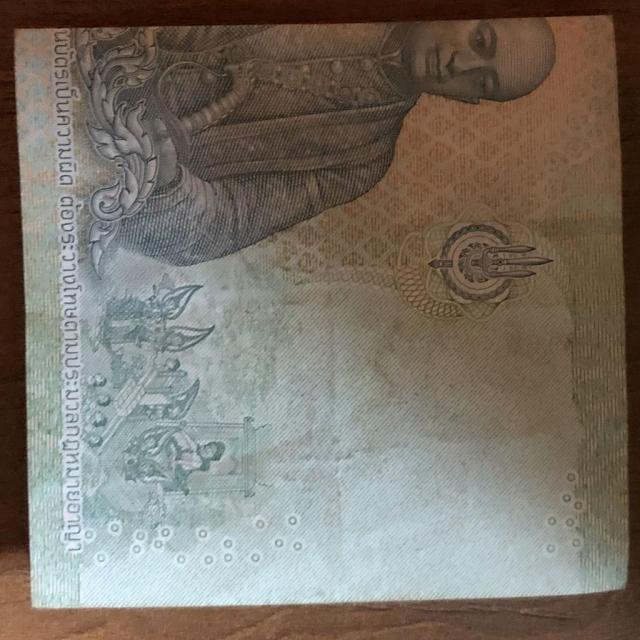THAI20: (16, 17, 628, 608)
